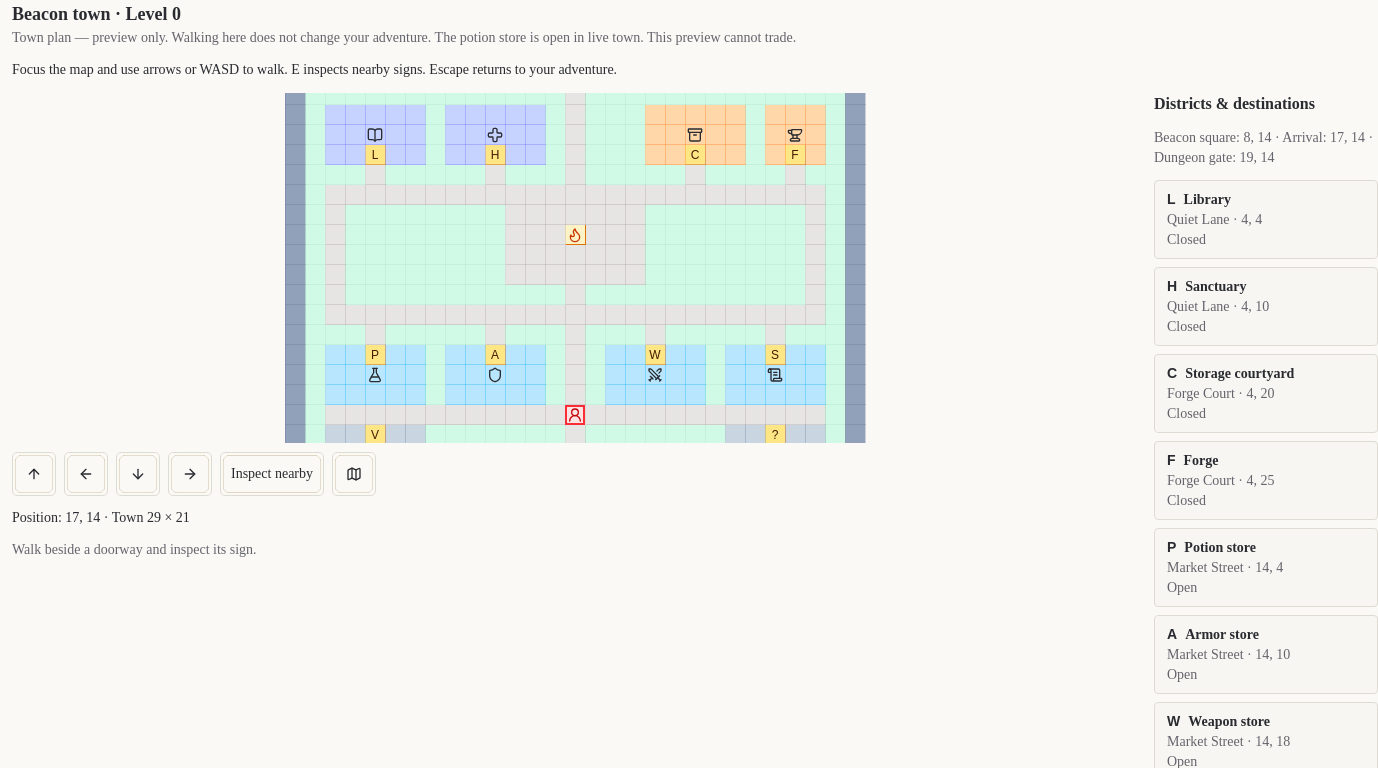
offers touch movement and inspection without leaving the preview
The image size is (1378, 768).
(page scrolled)
Step 1. Click the button named "Walk south" → (138, 474), box [116,452,160,496]
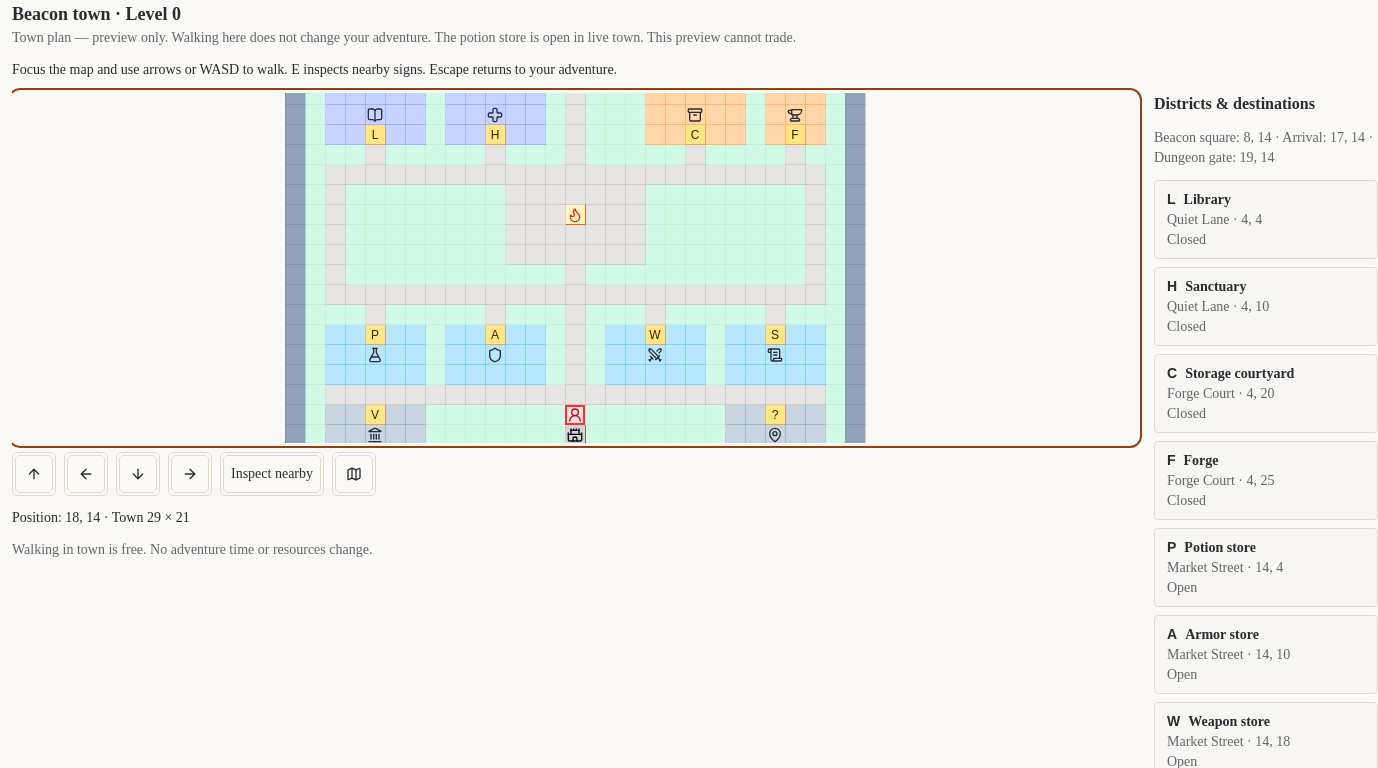
Now the text "Position: 18, 14 · Town 29 × 21" is shown, box [12,510,190,525]
Step 2. Click the button "Inspect nearby" → (272, 474), box [220,452,324,496]
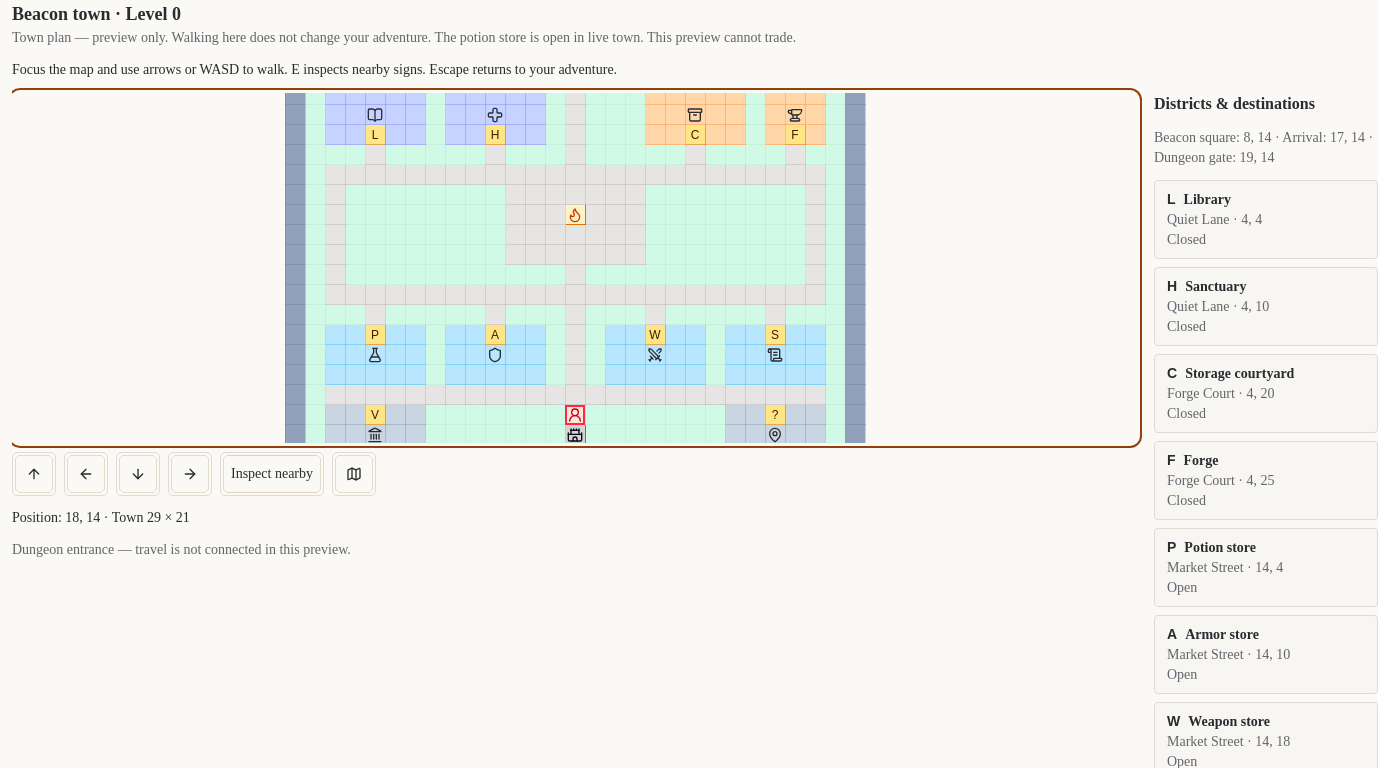
Now the message shows "not connected", box [12,542,351,557]
